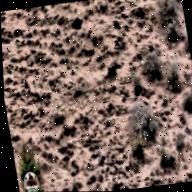boar: (104, 56, 124, 79)
